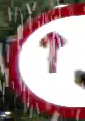Two way: (9, 3, 84, 118)
